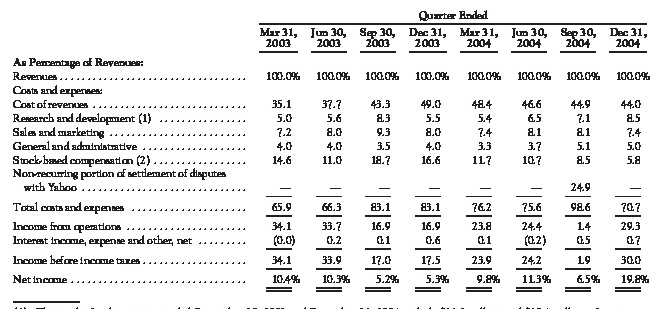table: (0, 0, 664, 309)
